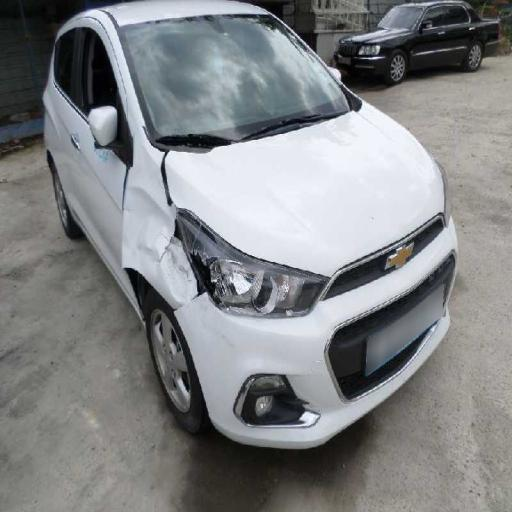broken: (129, 114, 268, 302)
dent: (112, 186, 175, 320)
